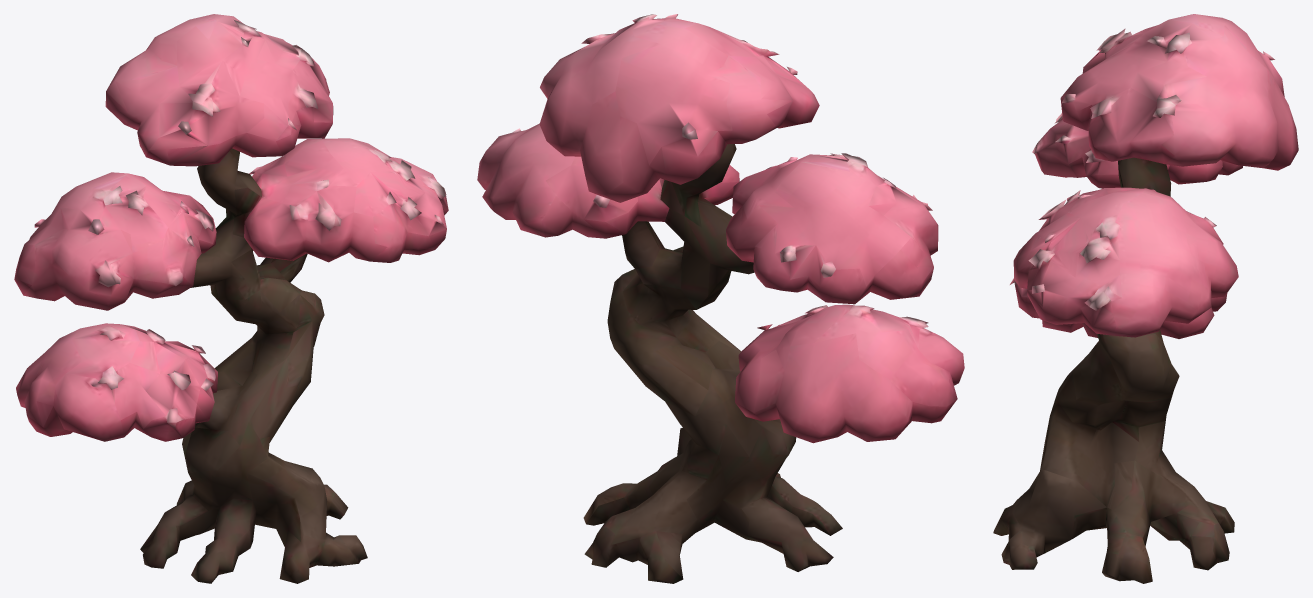
The model's file is cliff_block.glb.
3 views of the same model, side by side, from view 1: azimuth 30°, elevation 25°; view 2: azimuth 150°, elevation 25°; view 3: azimuth 270°, elevation 25° (orthographic). The views are drawn at different scales.
Visible parts, largest first — view 1: tripo_node_c79b302b-d7ed-4ce6-8317-1b52092475a3; view 2: tripo_node_c79b302b-d7ed-4ce6-8317-1b52092475a3; view 3: tripo_node_c79b302b-d7ed-4ce6-8317-1b52092475a3.
Part boxes in pixels (x1,y1,x2,y2): tripo_node_c79b302b-d7ed-4ce6-8317-1b52092475a3: (14, 14, 448, 583); tripo_node_c79b302b-d7ed-4ce6-8317-1b52092475a3: (477, 14, 964, 583); tripo_node_c79b302b-d7ed-4ce6-8317-1b52092475a3: (993, 14, 1298, 583).
Size of the model in its own units: 0.8649 by 0.9792 by 0.5263.
1 material, 1 textured.
